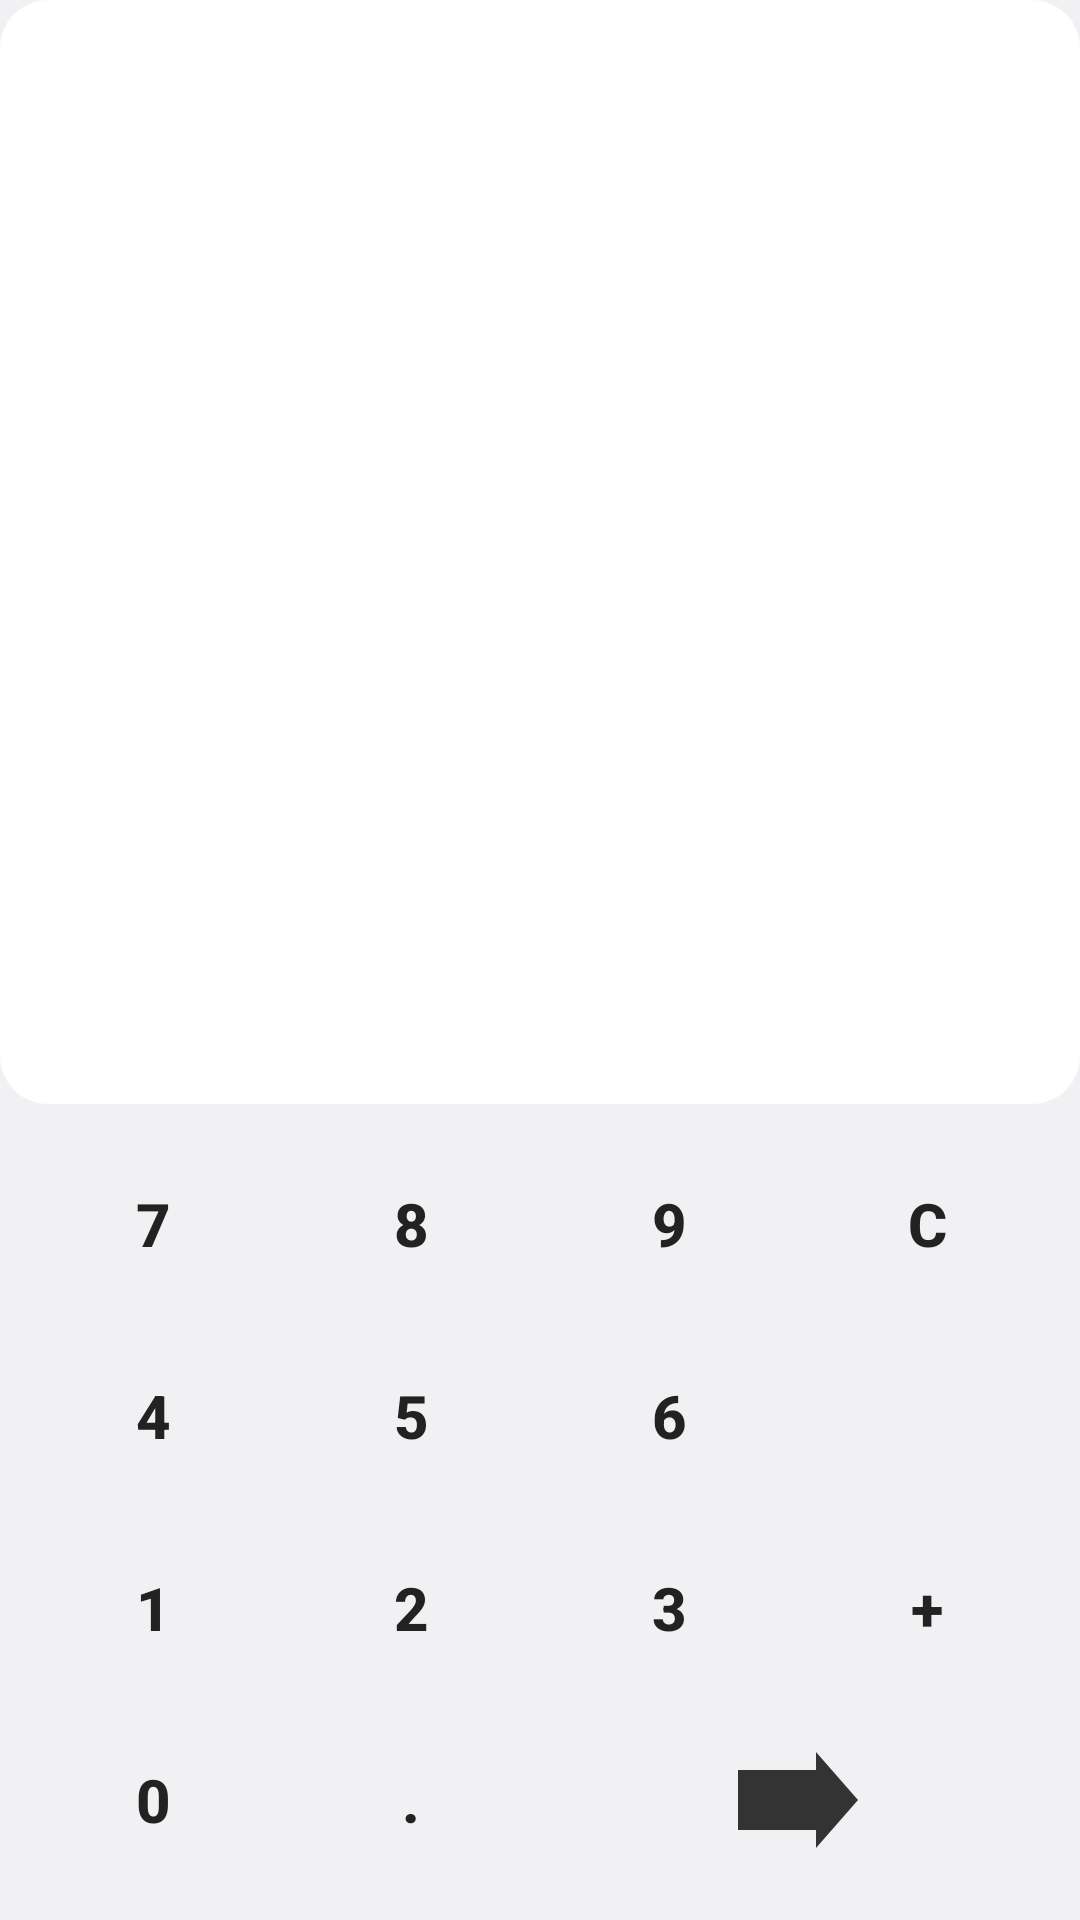

Where to tap for icons on this 1080px×1920px app screen, as point (x, y):
Send: point (798, 1800)
